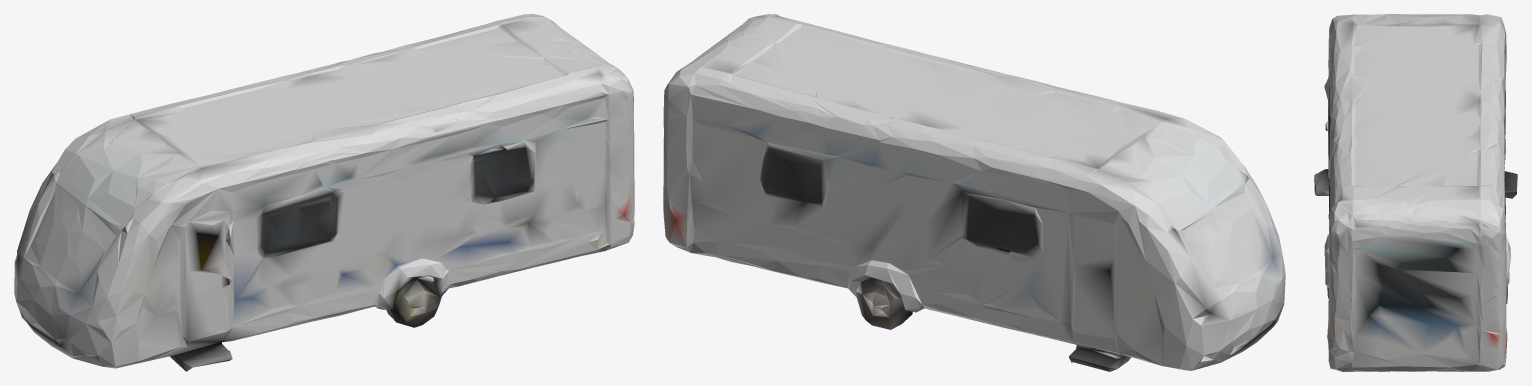
The model's file is rv-trailer.glb.
3 renders of one model, left to right at view 1: azimuth 30°, elevation 25°; view 2: azimuth 150°, elevation 25°; view 3: azimuth 270°, elevation 25°, orthographic. The views are drawn at different scales.
Parts seen in each view (by area): view 1: geometry_0; view 2: geometry_0; view 3: geometry_0.
Part boxes in pixels (<box>): geometry_0: <box>14,14,634,371</box>; geometry_0: <box>663,14,1285,371</box>; geometry_0: <box>1314,14,1517,371</box>.
Size of the model in its own units: 1.99 by 0.7069 by 0.6737.
